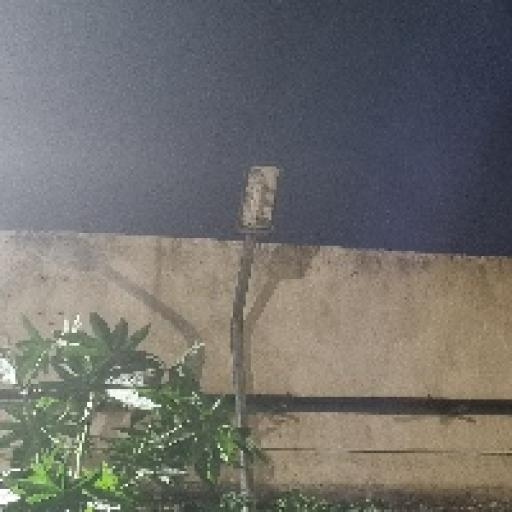Not Working: (222, 144, 294, 256)
